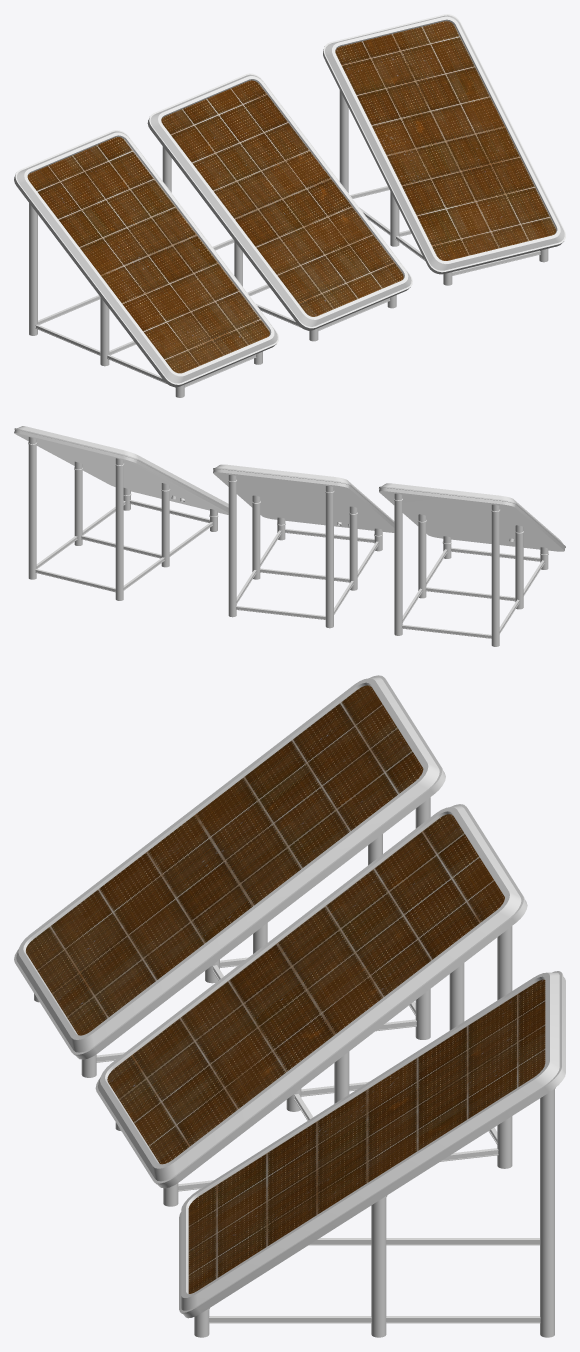
The model's file is SolarPanelsA.fbx.
The picture shows the model from 3 angles, top to bottom: view 1: azimuth 30°, elevation 25°; view 2: azimuth 150°, elevation 25°; view 3: azimuth 270°, elevation 25°; orthographic projection. The views are drawn at different scales.
Visible parts, largest first — view 1: SolarPanelsA; view 2: SolarPanelsA; view 3: SolarPanelsA.
Boxes of the visible parts, bbox=[...] form: SolarPanelsA: bbox=[14, 14, 565, 397]; SolarPanelsA: bbox=[14, 426, 565, 646]; SolarPanelsA: bbox=[14, 675, 565, 1337].
Size of the model in its own units: 1.05 by 0.3342 by 0.6042.
